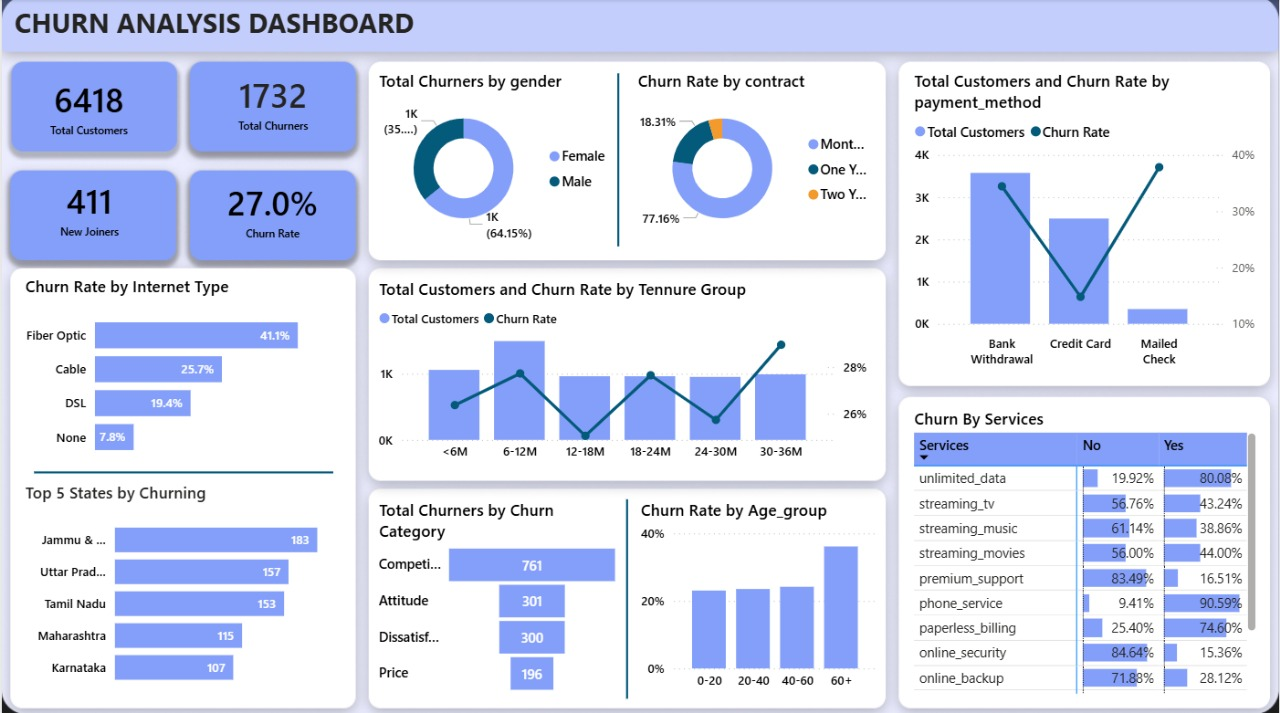

The dashboard page shown, as its layout file describes it:
{"tool":"powerbi","page":{"name":"Dashboard","canvas":[1280,720],"ordinal":0},"visuals":[{"type":"card","fields":{"Values":["Measure_Table.Total Customers"]},"box":[15.7,71.5,144,73.5],"z":0},{"type":"card","fields":{"Values":["Measure_Table.Total Churners"]},"box":[197.9,62.7,148.9,82.3],"z":1000},{"type":"card","fields":{"Values":["Measure_Table.New Joiners"]},"box":[18.6,175.4,139.1,69.6],"z":2000},{"type":"card","fields":{"Values":["Measure_Table.Churn Rate"]},"box":[211.6,175.4,120.5,72.5],"z":3000},{"type":"donutChart","fields":{"Y":["Measure_Table.Total Churners"],"Category":["public churn_final.gender"]},"box":[373.2,71.5,245.9,176.3],"z":4000},{"type":"barChart","title":"Top 5 States by Churning","fields":{"Category":["public churn_final.state"],"Y":["Measure_Table.Total Churners"]},"box":[18.6,483.9,328.2,217.5],"z":6000},{"type":"donutChart","fields":{"Category":["public churn_final.contract"],"Y":["Measure_Table.Churn Rate"]},"box":[632.8,71.5,252.7,176.3],"z":6001},{"type":"lineStackedColumnComboChart","fields":{"Category":["public churn_final.payment_method"],"Y":["Measure_Table.Total Customers"],"Y2":["Measure_Table.Churn Rate"]},"box":[909.1,71.5,352.7,304.7],"z":6002},{"type":"barChart","title":"Churn Rate by Internet Type","fields":{"Category":["public churn_final.internet_type"],"Y":["Measure_Table.Churn Rate"]},"box":[18.6,277.2,328.2,194.9],"z":6003},{"type":"columnChart","fields":{"Category":["public churn_final.Age_group"],"Y":["Measure_Table.Churn Rate"]},"box":[635.8,501.6,246.9,199.8],"z":6004},{"type":"funnel","title":"Total Churners by Churn Category","fields":{"Category":["public churn_final.churn_category"],"Y":["Measure_Table.Total Churners"]},"box":[373.2,501.6,251.8,199.8],"z":6005},{"type":"lineStackedColumnComboChart","fields":{"Y":["Measure_Table.Total Customers"],"Y2":["Measure_Table.Churn Rate"],"Category":["public churn_final.Tennure Group"]},"box":[373.2,280.2,499.6,192],"z":6006},{"type":"pivotTable","title":"Churn By Services","fields":{"Rows":["Services_table.Services"],"Columns":["Services_table.Status"],"Values":["Sum(Services_table.Churn_Status)"]},"box":[909.1,409.5,352.7,291.9],"z":6007},{"type":"shape","box":[613.3,74.5,9.8,173.4],"z":6008},{"type":"shape","box":[621.1,501.6,11.8,199.8],"z":6009},{"type":"shape","box":[32.3,465.3,299.8,18.6],"z":6010},{"type":"textbox","box":[7.8,0,514.3,46],"z":6011}]}

Visuals, with their boxes in screenshot pixels (x1, y1, x2, y2), scaled from the page's 1280x720 canvas onto the 1280x713 screenshot:
card - Measure_Table.Total Customers: 16,71,160,144
card - Measure_Table.Total Churners: 198,62,347,144
card - Measure_Table.New Joiners: 19,174,158,243
card - Measure_Table.Churn Rate: 212,174,332,245
donutChart - Measure_Table.Total Churners x public churn_final.gender: 373,71,619,245
"Top 5 States by Churning" barChart: 19,479,347,695
donutChart - public churn_final.contract x Measure_Table.Churn Rate: 633,71,886,245
lineStackedColumnComboChart - public churn_final.payment_method x Measure_Table.Total Customers: 909,71,1262,373
"Churn Rate by Internet Type" barChart: 19,275,347,468
columnChart - public churn_final.Age_group x Measure_Table.Churn Rate: 636,497,883,695
"Total Churners by Churn Category" funnel: 373,497,625,695
lineStackedColumnComboChart - Measure_Table.Total Customers x Measure_Table.Churn Rate: 373,277,873,468
"Churn By Services" pivotTable: 909,406,1262,695
shape: 613,74,623,245
shape: 621,497,633,695
shape: 32,461,332,479
textbox: 8,0,522,46
